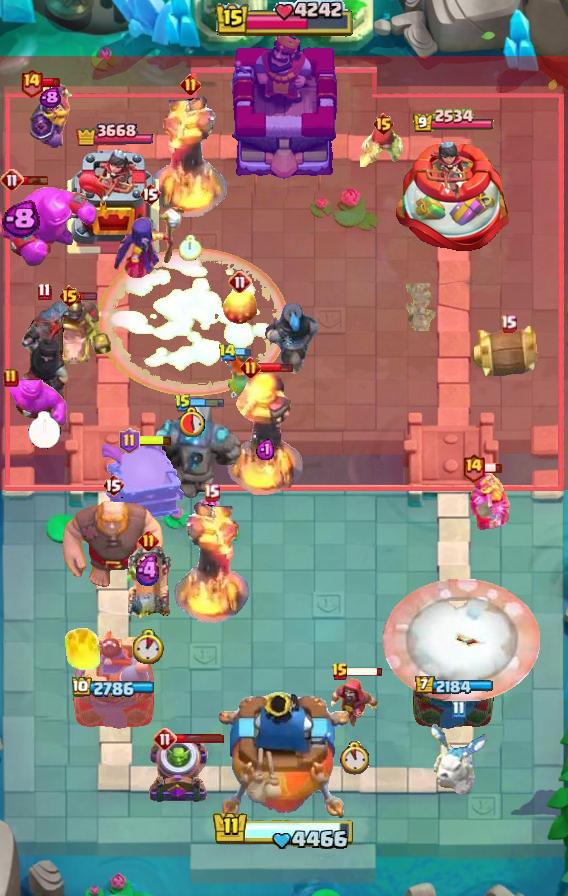axe: (112, 205, 188, 279)
balloon: (59, 497, 167, 589)
battle-healer: (125, 540, 171, 622)
bowler: (329, 676, 379, 730)
cannoneer-tower: (149, 404, 245, 502)
clock: (212, 810, 356, 852), (214, 0, 354, 39)
clone: (0, 184, 102, 268)
dart-goblin: (99, 441, 185, 523)
electro-dragon: (225, 370, 305, 498), (151, 93, 229, 221), (172, 499, 250, 627)
electro-spirit: (0, 201, 39, 240), (132, 554, 163, 587), (39, 87, 61, 109), (256, 438, 274, 460)
elixir: (28, 411, 61, 449), (337, 741, 370, 775), (132, 629, 163, 663), (180, 406, 206, 437), (178, 235, 201, 261)
emote: (175, 733, 225, 744), (258, 361, 294, 374), (137, 433, 173, 446), (347, 666, 384, 678), (14, 174, 50, 186), (190, 397, 225, 409), (483, 462, 503, 474), (234, 346, 252, 358), (42, 77, 61, 88), (79, 291, 98, 301)
firecracker-evolution: (28, 82, 72, 150), (466, 469, 512, 531)
fisherman: (402, 283, 440, 331)
freeze: (48, 295, 116, 369)
goblin-cage: (147, 735, 211, 805)
hog: (223, 287, 257, 325)
hog-rider: (220, 349, 258, 401)
ice-golem: (360, 125, 406, 167)
inferno-dragon: (14, 300, 74, 406), (263, 298, 319, 374)
king-tower: (222, 31, 346, 181), (219, 692, 349, 826)
mini-pekka: (426, 722, 490, 798)
phoenix-big: (96, 246, 290, 398)
queen-tower: (390, 137, 516, 255), (64, 146, 164, 256), (72, 627, 156, 731), (411, 627, 495, 731)
selected: (75, 120, 152, 150), (413, 108, 496, 134), (71, 677, 156, 699), (414, 676, 494, 696)
text: (20, 67, 44, 98), (462, 452, 486, 483), (0, 168, 24, 192), (228, 270, 252, 294), (153, 727, 177, 751), (372, 112, 395, 136), (58, 284, 81, 308), (119, 428, 140, 454), (139, 182, 161, 206), (102, 473, 124, 497), (179, 73, 201, 95), (240, 357, 261, 378), (137, 530, 158, 551), (174, 393, 192, 413), (331, 662, 349, 682), (218, 343, 237, 361), (499, 315, 517, 333), (3, 368, 19, 388), (203, 483, 220, 501), (451, 701, 465, 720), (37, 283, 51, 301)
the-log: (471, 325, 545, 377)
tornado: (0, 376, 68, 432)
valkyrie: (62, 624, 102, 672)
wall-breaker: (383, 579, 541, 701)
